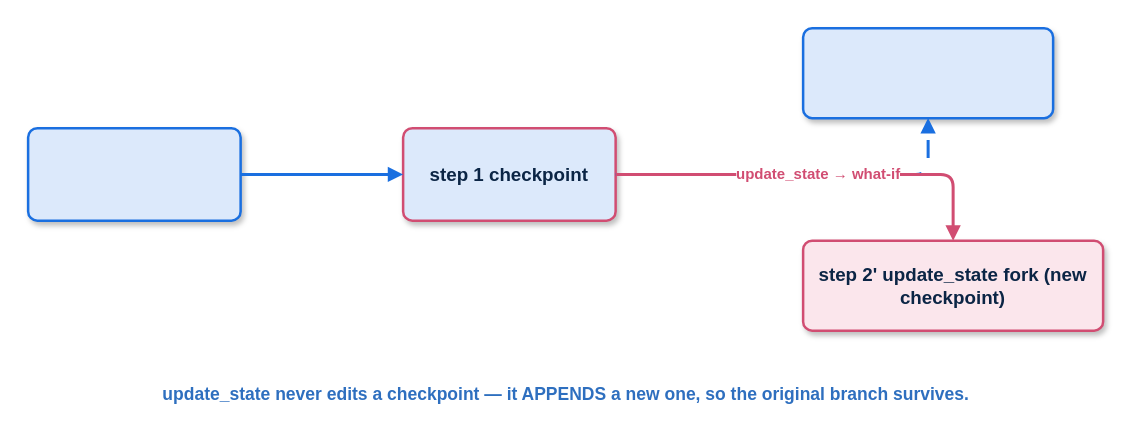
The diagram is 1133 pixels wide and 431 high, and some of its shapes have lost their labels. The centre of each missing label's shape, as x and y in pixels:
step 0 checkpoint: the point at 135,175
step 2 original path: the point at 928,74
